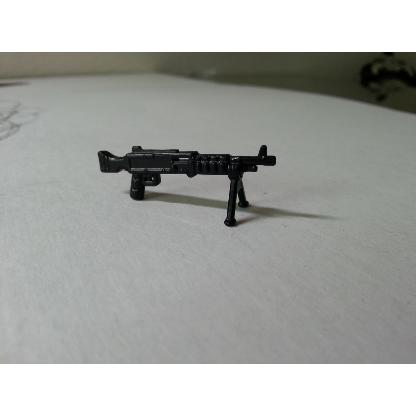gun: (92, 137, 289, 213)
